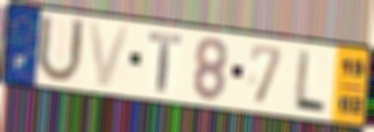7: (248, 42, 286, 107)
8: (193, 36, 230, 103)
L: (290, 47, 328, 116)
T: (147, 30, 183, 95)
U: (34, 12, 87, 86)
V: (86, 20, 133, 90)
